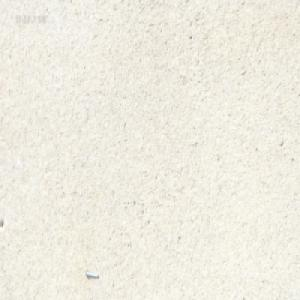Nail: (84, 269, 99, 278)
